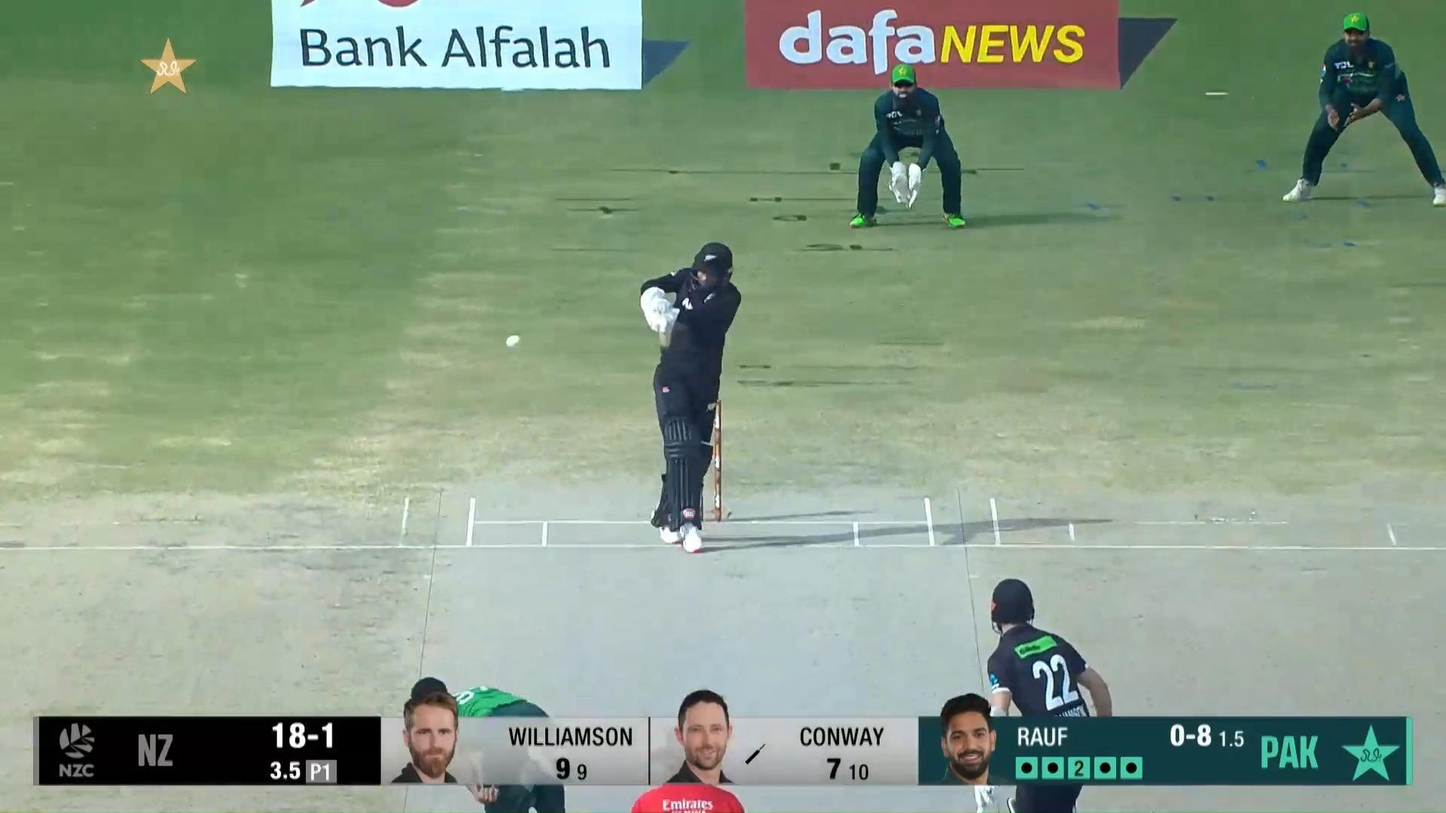BM 1: (638, 241, 744, 555)
BO: (410, 676, 566, 813)
